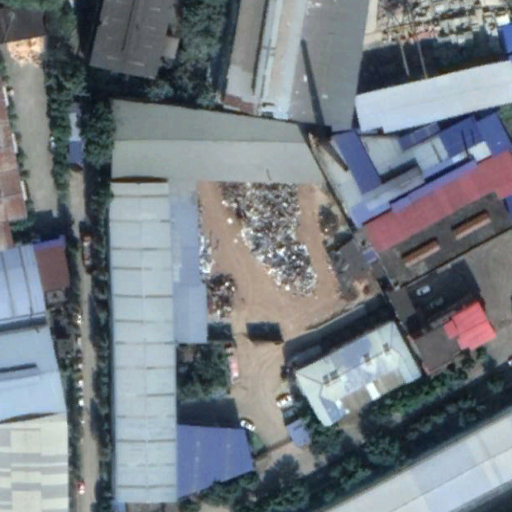msw: (228, 181, 316, 296), (197, 217, 236, 318)
